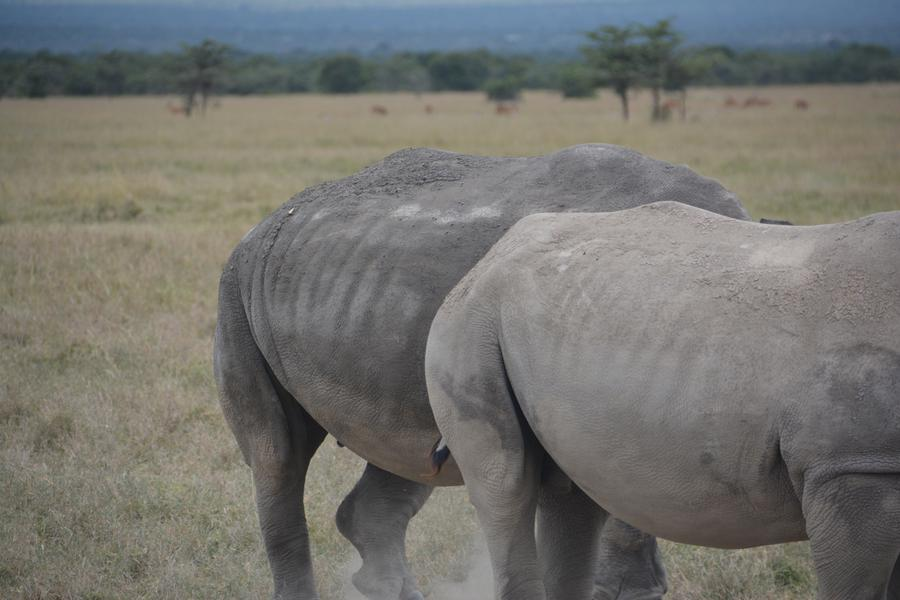rhino: (250, 154, 670, 510), (449, 216, 862, 574)
